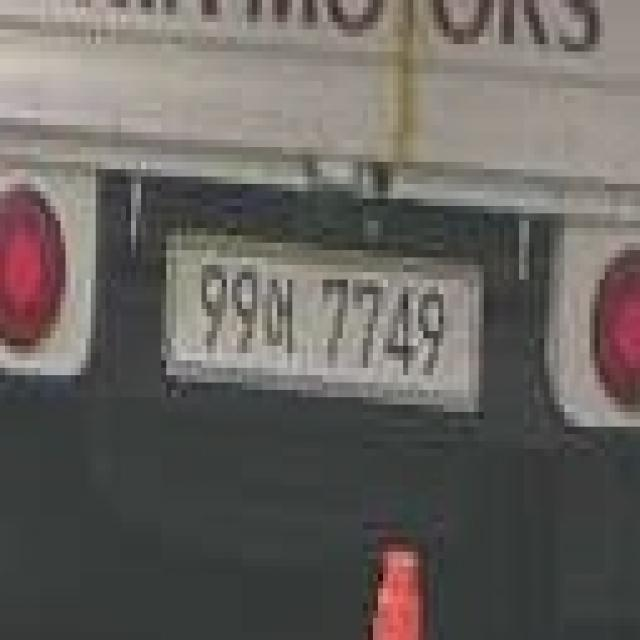4: (390, 278, 420, 380)
7: (317, 270, 352, 374), (357, 274, 383, 376)
9: (424, 278, 451, 389), (231, 264, 261, 358), (198, 262, 226, 354)
eo: (266, 266, 297, 362)
license_plate: (167, 240, 483, 410)
